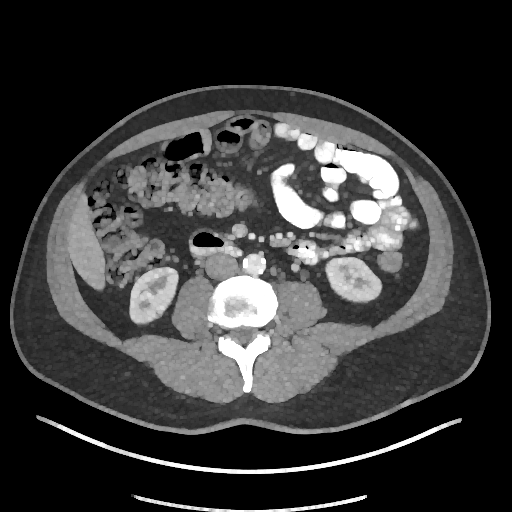Lesion: (153, 306, 163, 321)
